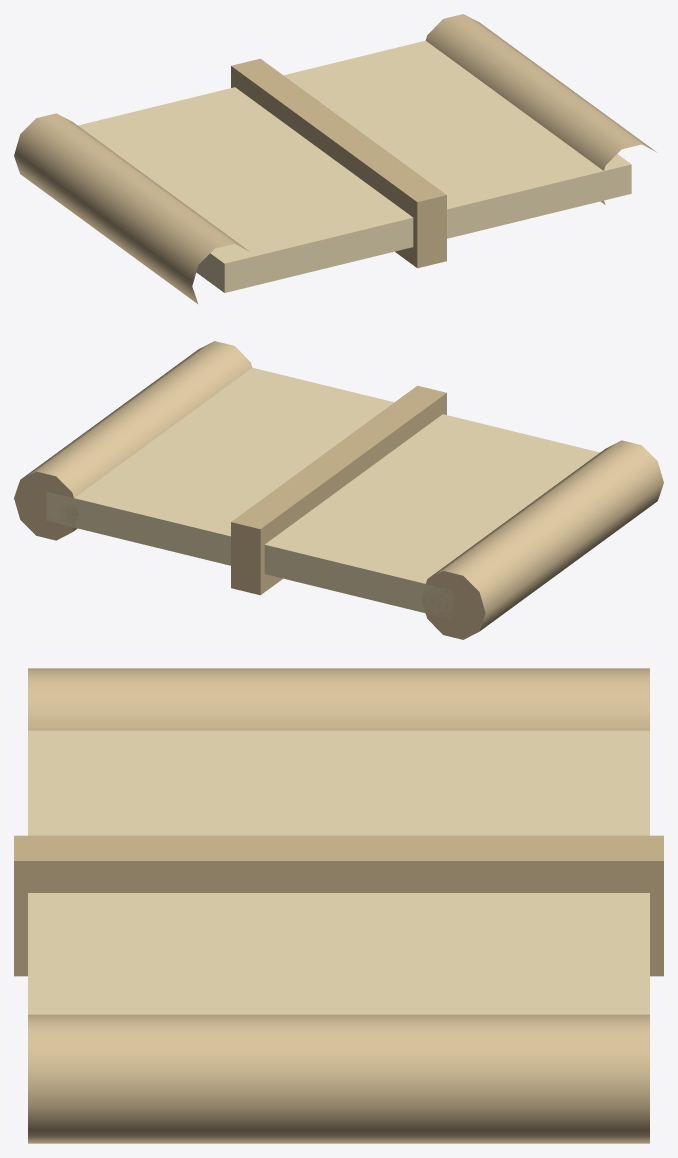
File: map_piece.glb
3 views of the same model, one above another, from view 1: azimuth 30°, elevation 25°; view 2: azimuth 150°, elevation 25°; view 3: azimuth 270°, elevation 25° (orthographic). The views are drawn at different scales.
Visible parts, largest first — view 1: map_piece; view 2: map_piece; view 3: map_piece.
Boxes of the visible parts, left/top/right/bottom form: map_piece: left=14, top=14, right=656, bottom=303; map_piece: left=14, top=341, right=663, bottom=639; map_piece: left=14, top=668, right=663, bottom=1143.
Size of the model in its own units: 0.672 by 0.09 by 0.46.
